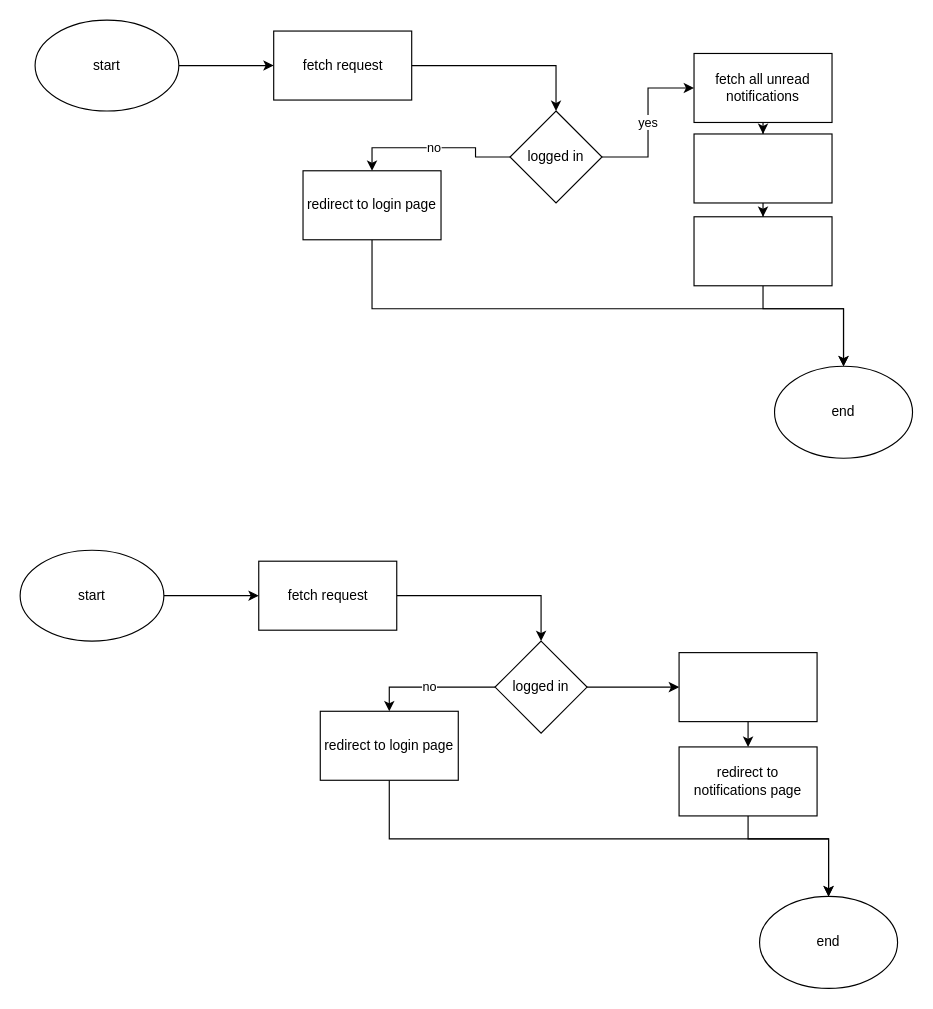
Some shapes in this 933 by 1009 pixel diagram are drawn without their labels. Here are the shapes that lost their labels. From the top down, the centre of each, then its label:
point 762,168: fetch all notifications oredered by date
point 762,251: render notifications page
point 747,686: change all notifications to read
